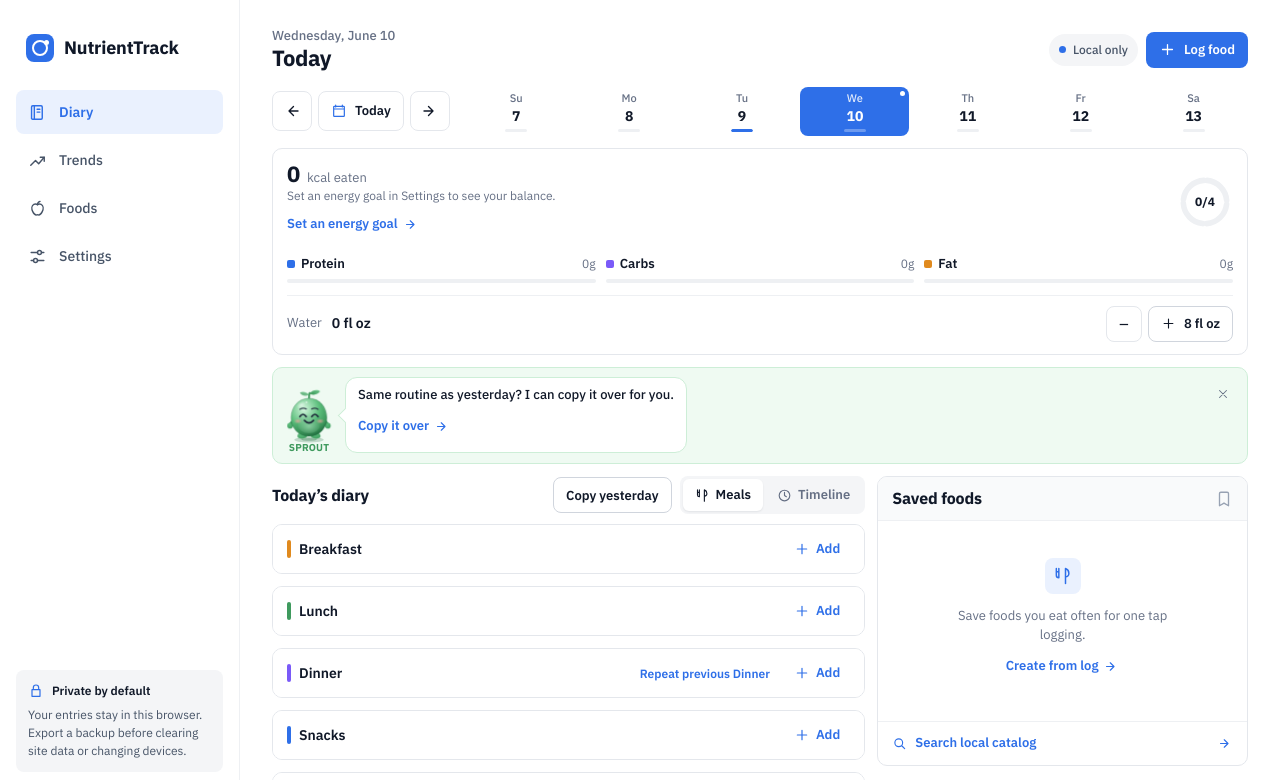
it: Log food library tabs › does not list a planned entry under Recent
This screenshot has width=1280, height=780.
Click the button "Log food".
click(1197, 50)  # box x1=1146 y1=32 x2=1248 y2=68
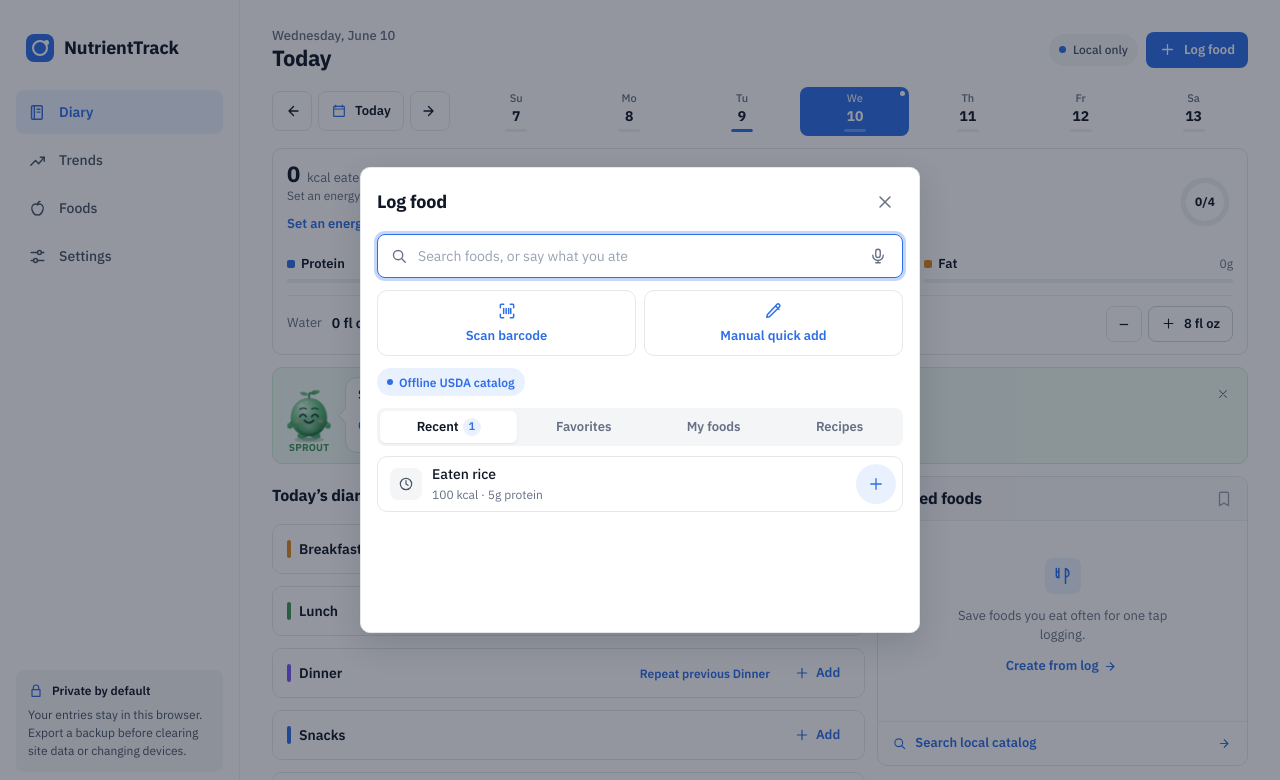
Now the element named "Your foods" is shown, box x1=377 y1=408 x2=903 y2=446
Now the tab "Recent 1" is shown, box x1=380 y1=411 x2=517 y2=443
